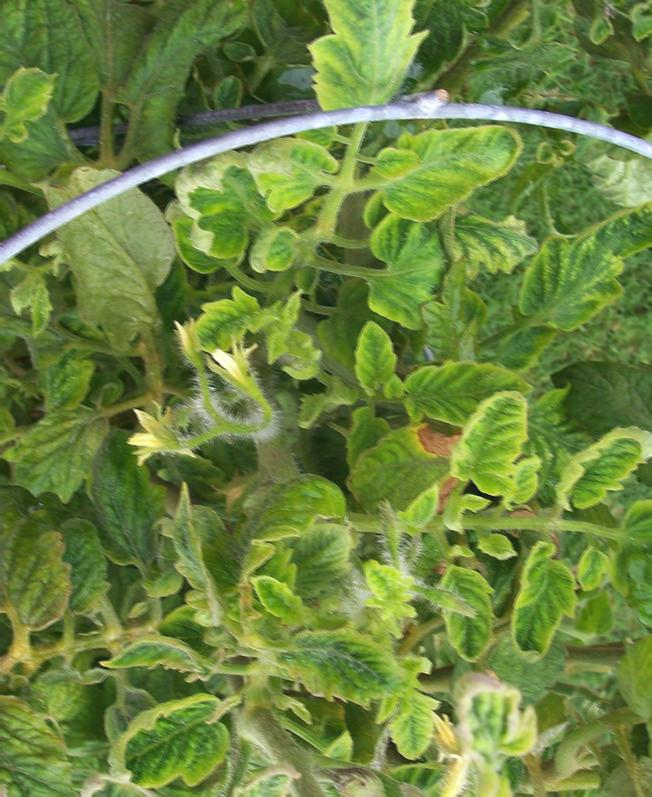Tomato leaf yellow virus: (245, 623, 427, 723), (306, 0, 425, 149), (364, 127, 524, 227), (437, 386, 545, 523), (97, 693, 231, 797), (245, 513, 352, 611), (395, 362, 564, 424), (554, 406, 649, 515), (240, 127, 352, 212), (504, 537, 573, 667), (0, 64, 63, 173), (380, 662, 440, 770), (437, 562, 492, 668), (345, 317, 402, 418), (190, 296, 282, 358)
